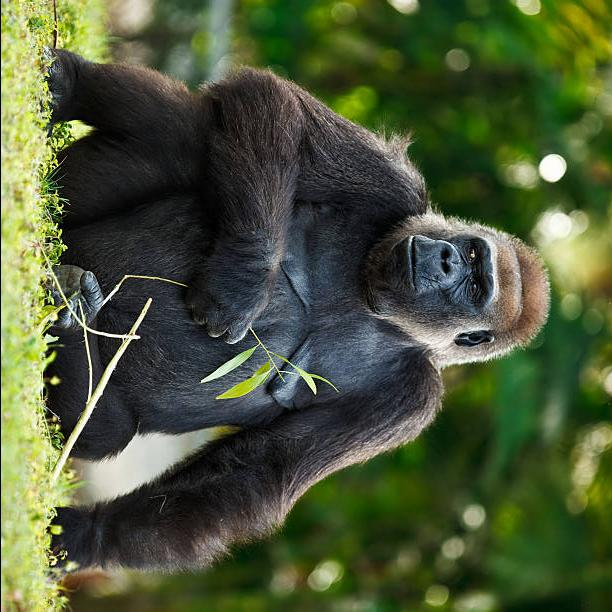gorille_Autres: (35, 63, 557, 594)
